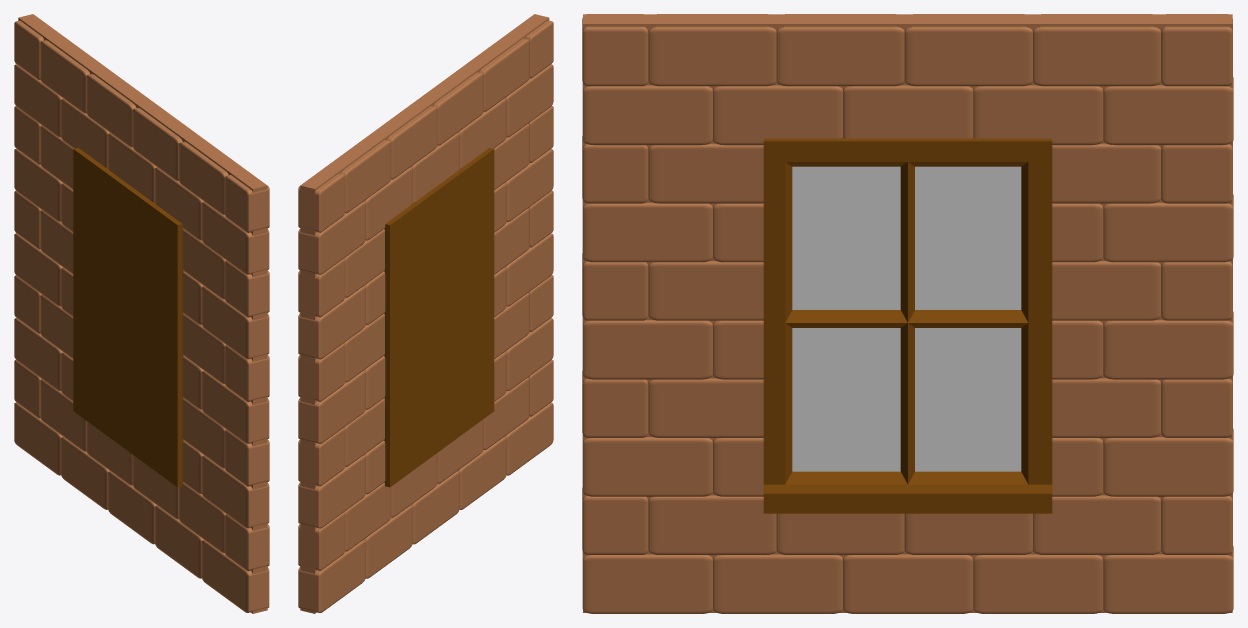
Rendered from window3.fbx.
The picture shows the model from 3 angles, left to right: view 1: azimuth 30°, elevation 25°; view 2: azimuth 150°, elevation 25°; view 3: azimuth 270°, elevation 25°; orthographic projection. The views are drawn at different scales.
Visible parts, largest first — view 1: Cube.006, Cube; view 2: Cube.006, Cube; view 3: Cube.006, Cube.
Boxes of the visible parts, x1,y1,x2,y2 form: Cube.006: [14, 14, 269, 613]; Cube: [73, 148, 183, 487]; Cube.006: [298, 14, 553, 613]; Cube: [384, 148, 494, 487]; Cube.006: [582, 14, 1233, 613]; Cube: [763, 138, 1052, 513].
Size of the model in its own units: 21.99 by 200 by 200.
